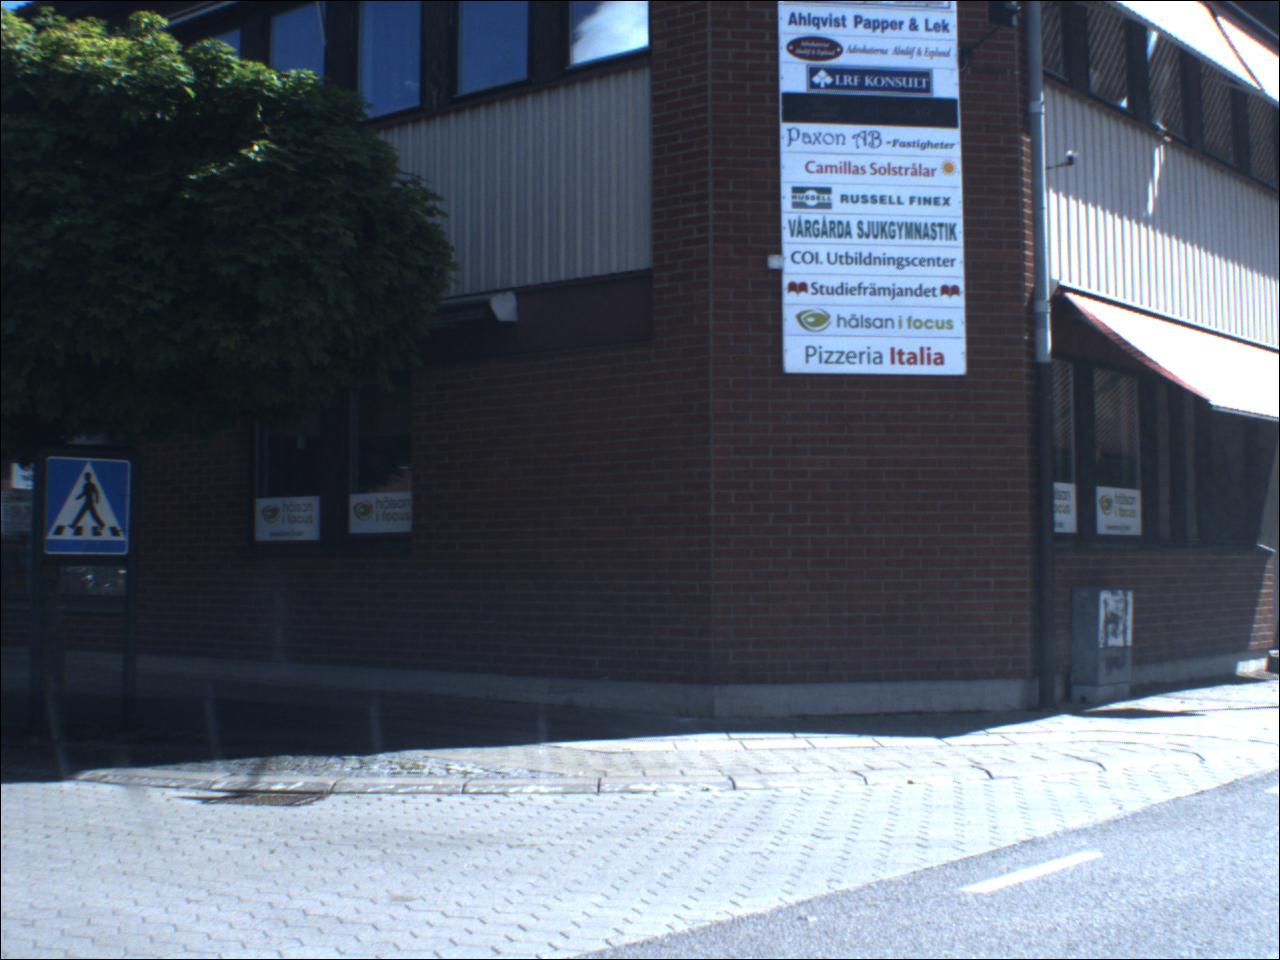PEDESTRIAN_CROSSING: (46, 454, 134, 560)
